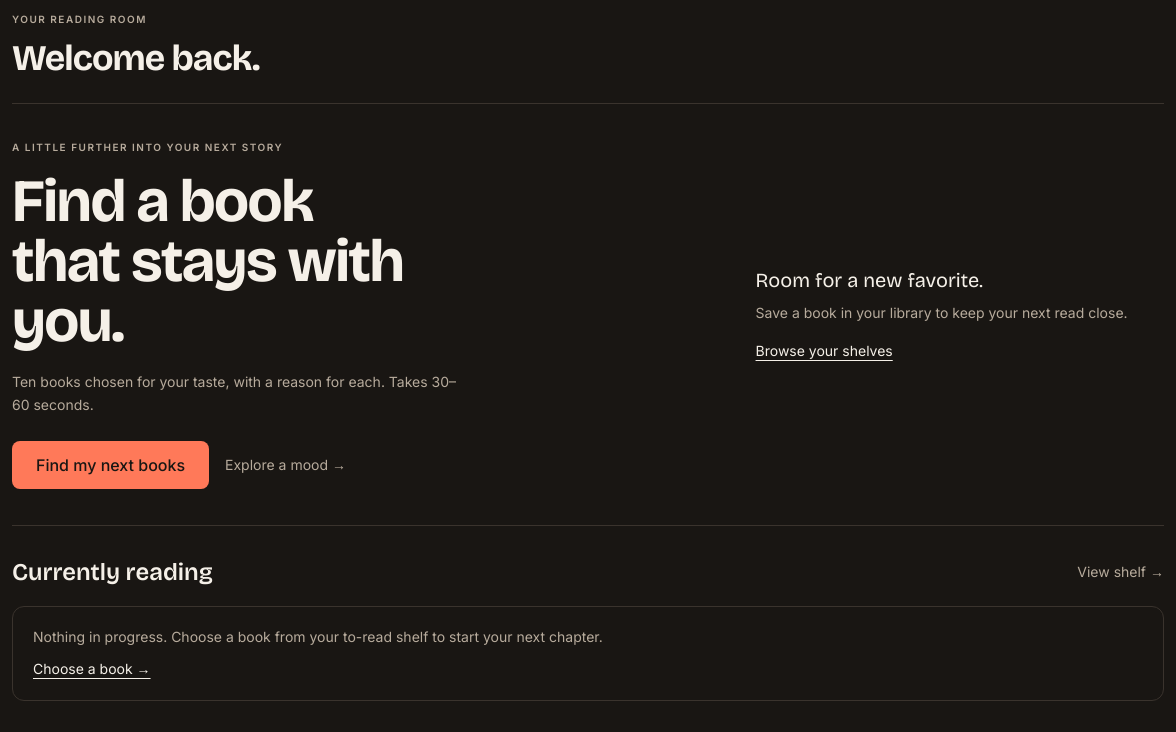
it: dashboard › keeps the reader on the home page when a run serves nothing
The width and height of the screenshot is (1176, 732).
Step 1. Click the button "Find my next books" → (110, 464), box [12, 440, 209, 488]
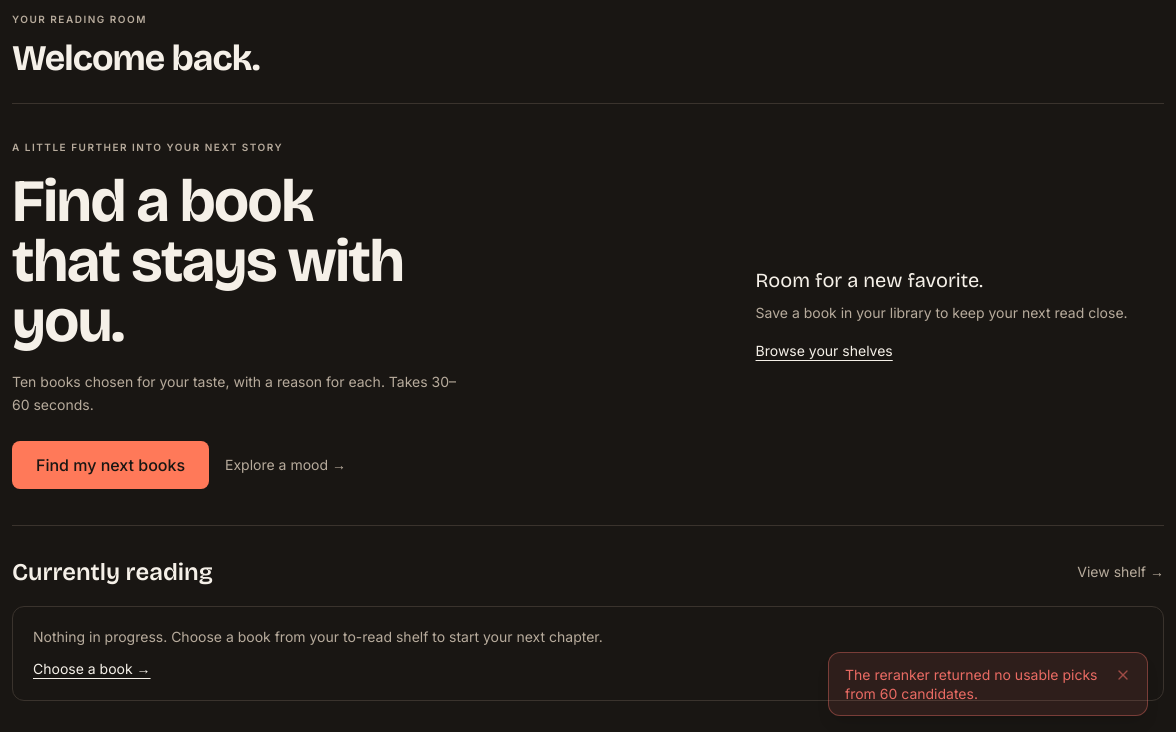
Check: the text "The reranker returned no usable picks from 60 candidates." is shown, box [845, 664, 1103, 703]
